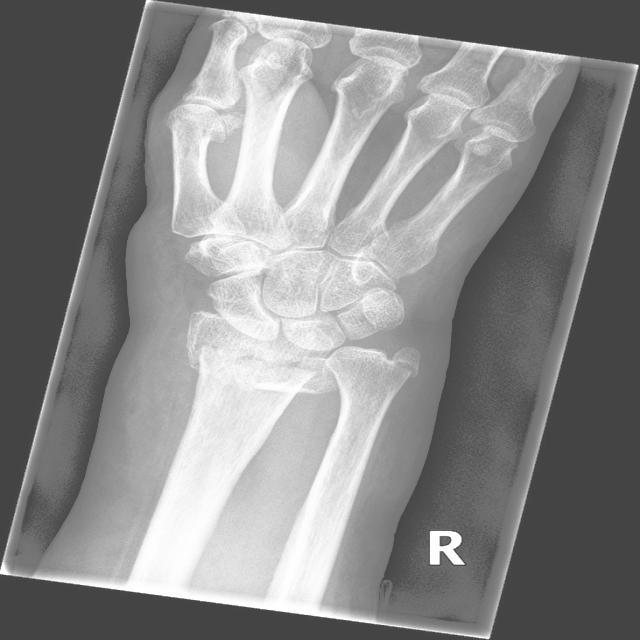Intra-articular fracture: (389, 343, 424, 385)
